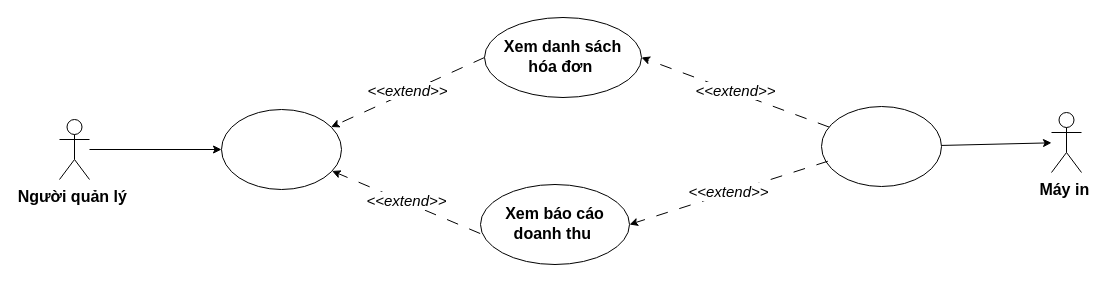
This 1110x282 diagram has some shape labels left out. Here are the shapes that lost their labels. From the top down, the centre of each, then its label:
At [281,149]: "Quản lý hóa đơn và doanh thu".
At [881,146]: "In hóa đơn".
